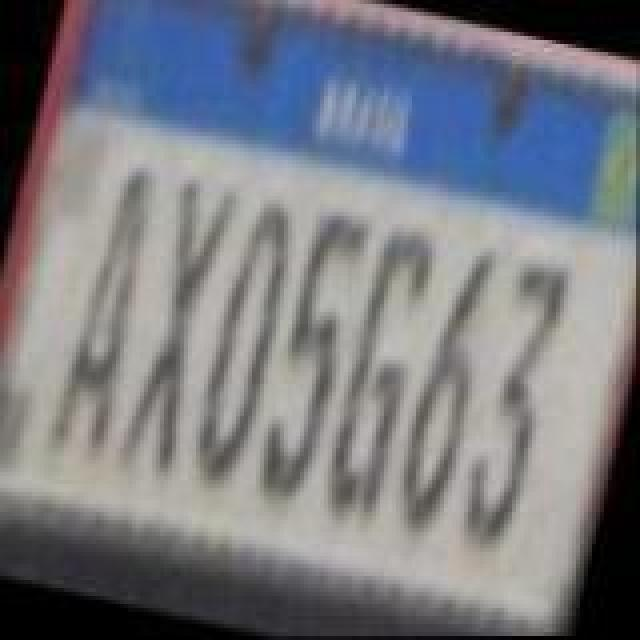3: (452, 246, 580, 554)
5: (254, 202, 374, 506)
6: (382, 230, 506, 538)
A: (50, 158, 170, 458)
G: (318, 222, 446, 530)
O: (182, 186, 310, 494)
X: (112, 168, 236, 480)
